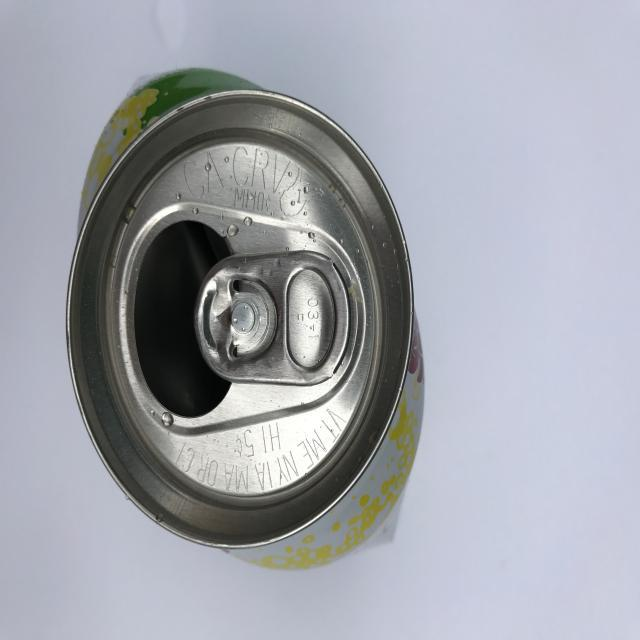metal: (64, 65, 426, 573)
